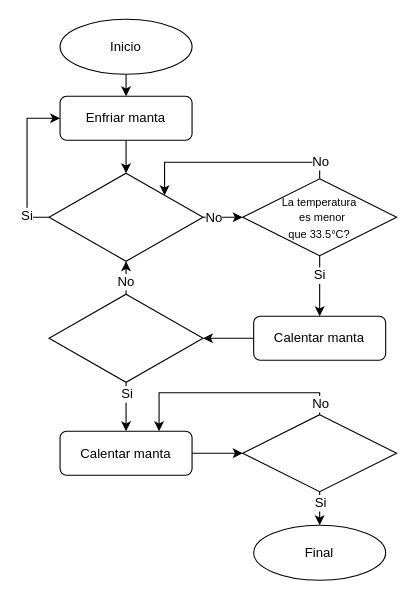
Some shapes in this 416 by 600 pixel diagram are drawn without their labels. The centre of each missing label's shape, as x and y in pixels:
"La temperatura es mayor que 33.5°C?" belongs at point (125, 216).
"La temperatura es mayor que 35°C?" belongs at point (319, 453).
"Pasaron 72Hs?" belongs at point (125, 337).
